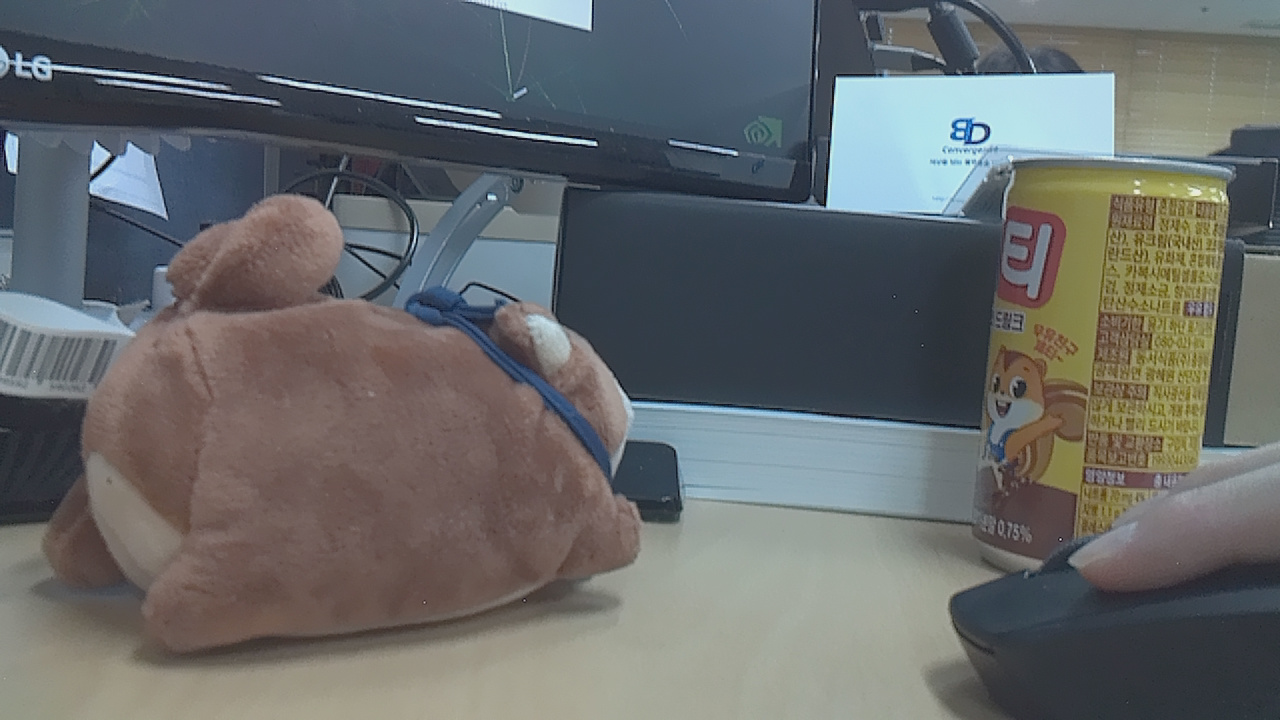cuteDog: (77, 254, 729, 674)
